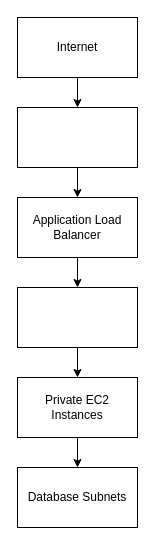
This 155x545 diagram has some shape labels left out. Here are the shapes that lost their labels. From the top down, the centre of each, then its label:
At point (77, 137): "Internet Gateway".
At point (77, 317): "Auto Scaling Group".
